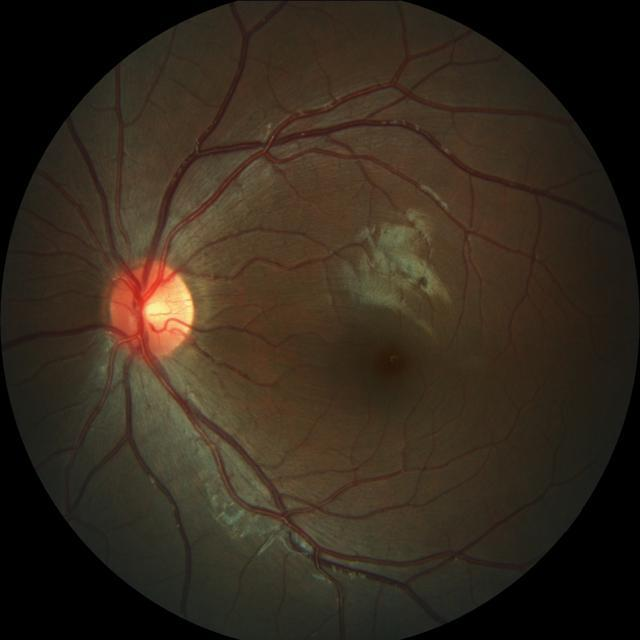OC: (145, 302, 171, 324)
OD: (105, 260, 193, 360)
